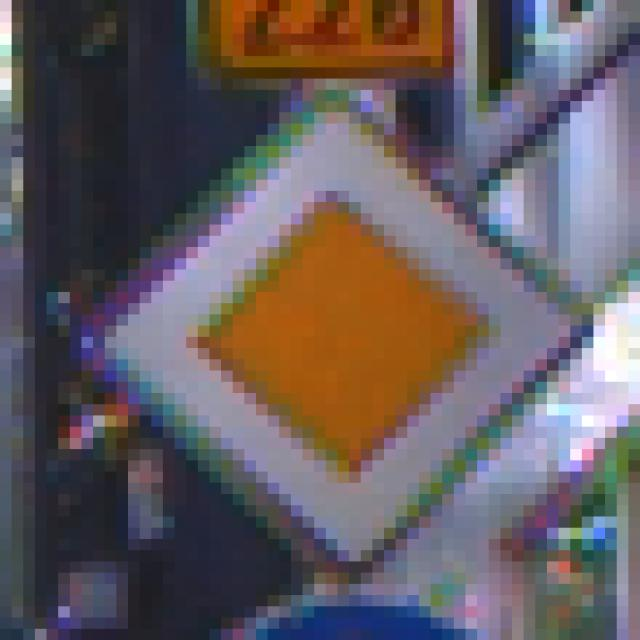Main Road: (71, 68, 571, 574)
